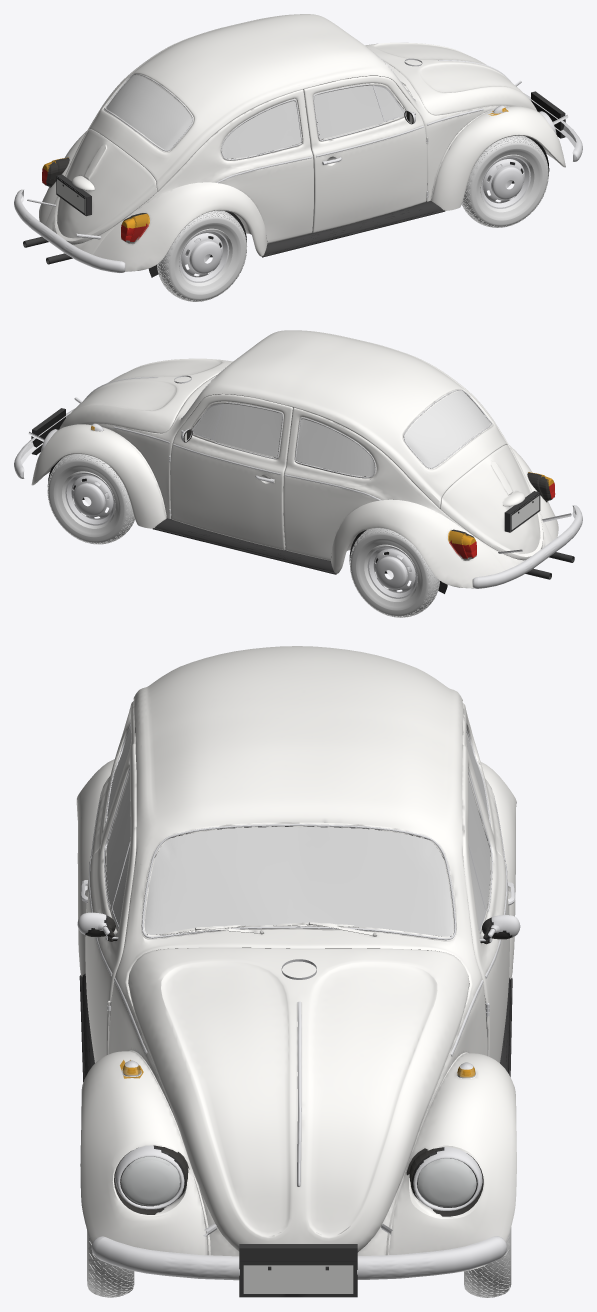
File: besouro.glb
3 views of the same model, one above another, from view 1: azimuth 30°, elevation 25°; view 2: azimuth 150°, elevation 25°; view 3: azimuth 270°, elevation 25° (orthographic). The views are drawn at different scales.
Parts seen in each view (by area): view 1: body, door_fr, hood, trunk, fender_rear_right, fender_front_right, wheel_fr_tire, wheel_rr_tire, glass_rear, glass_door_fr, glass_door_rr, side_skirt_right (+8 smaller); view 2: body, door_fl, hood, trunk, fender_rear_left, fender_front_left, wheel_fl_tire, wheel_rl_tire, glass_rear, glass_door_fl, glass_door_rl, side_skirt_left (+8 smaller); view 3: body, hood, glass_windshield, fender_front_right, fender_front_left, bumper_front, door_fr, door_fl, plate_front, headlight_left, headlight_right, fender_rear_right (+6 smaller).
Part boxes in pixels (box(x1,y1,x2,y2)): body: box(23, 14, 549, 277); door_fr: box(303, 76, 428, 232); hood: box(365, 42, 536, 115); trunk: box(54, 129, 157, 244); fender_rear_right: box(93, 182, 267, 271); fender_front_right: box(427, 105, 565, 210); wheel_fr_tire: box(462, 135, 548, 227); wheel_rr_tire: box(157, 210, 247, 301); glass_rear: box(106, 75, 191, 149); glass_door_fr: box(314, 85, 405, 139); glass_door_rr: box(222, 101, 300, 158); side_skirt_right: box(262, 200, 445, 257); body: box(48, 330, 574, 593); door_fl: box(169, 394, 292, 550); hood: box(59, 358, 232, 433); trunk: box(440, 445, 543, 560); fender_rear_left: box(331, 499, 504, 588); fender_front_left: box(31, 423, 166, 528); wheel_fl_tire: box(47, 454, 134, 544); wheel_rl_tire: box(349, 528, 439, 617); glass_rear: box(405, 391, 490, 467); glass_door_fl: box(191, 404, 282, 457); glass_door_rl: box(296, 419, 374, 476); side_skirt_left: box(152, 518, 336, 574); body: box(87, 646, 510, 1256); hood: box(128, 947, 469, 1252); glass_windshield: box(144, 827, 453, 936); fender_front_right: box(80, 1050, 210, 1255); fender_front_left: box(385, 1052, 516, 1272); bumper_front: box(91, 1224, 506, 1280); door_fr: box(80, 743, 136, 1069); door_fl: box(462, 745, 515, 1062); plate_front: box(239, 1244, 357, 1297); headlight_left: box(409, 1145, 484, 1218); headlight_right: box(114, 1145, 186, 1214); fender_rear_right: box(76, 759, 154, 976).
Size of the model in its own units: 4.12 by 1.5 by 1.54.
Materials: 11 (6 with a texture image).
